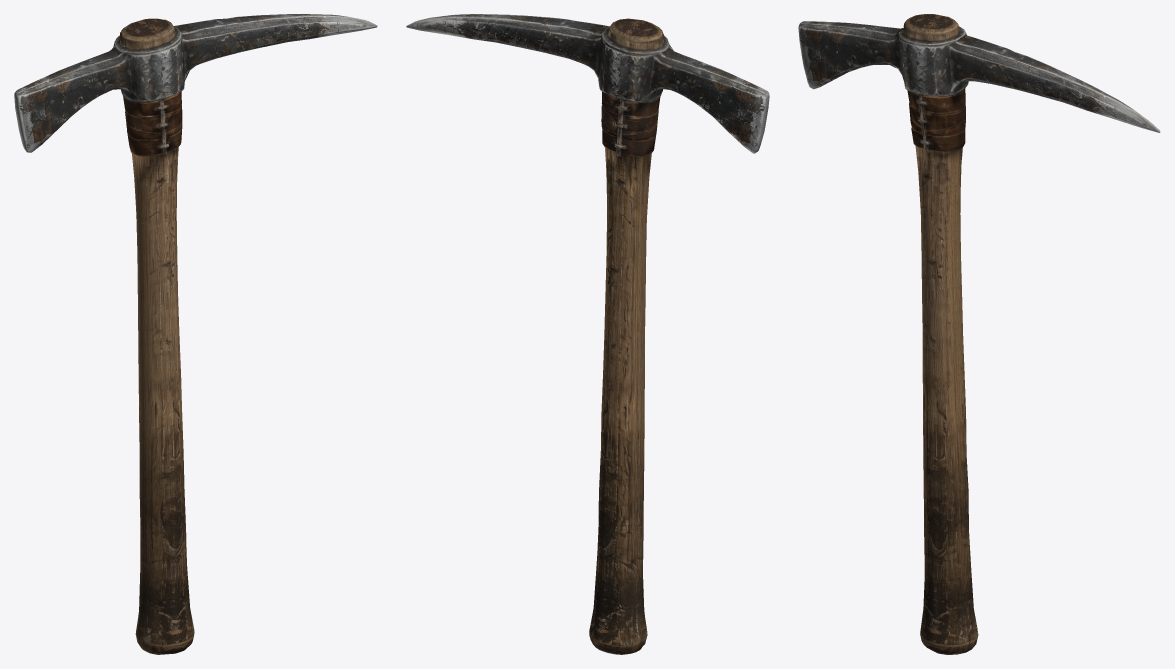
Rendered from 1572_pick.glb.
The picture shows the model from 3 angles, left to right: view 1: azimuth 30°, elevation 25°; view 2: azimuth 150°, elevation 25°; view 3: azimuth 330°, elevation 25°; orthographic projection.
Visible parts, largest first — view 1: Model; view 2: Model; view 3: Model.
Boxes of the visible parts, left/top/right/bottom form: Model: left=14, top=14, right=377, bottom=654; Model: left=406, top=14, right=769, bottom=654; Model: left=798, top=14, right=1160, bottom=654.
Size of the model in its own units: 0.6053 by 1 by 0.0865.
Materials: 1 (1 with a texture image).
